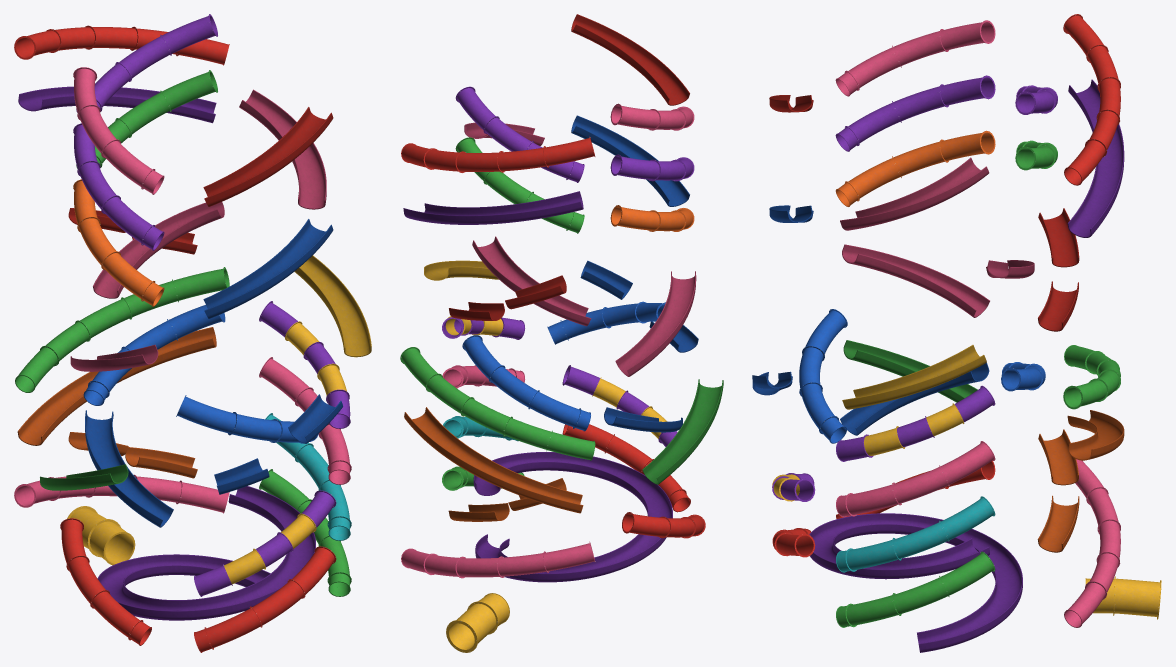
File: torre_A_scivoli.glb
3 renders of one model, left to right at view 1: azimuth 30°, elevation 25°; view 2: azimuth 150°, elevation 25°; view 3: azimuth 270°, elevation 25°, orthographic. The views are drawn at different scales.
Visible parts, largest first — view 1: torre_A_canali, torre_scivolo_22, torre_scivolo_16, torre_scivolo_14, torre_scivolo_19, torre_scivolo_23, torre_scivolo_15, torre_scivolo_24, torre_scivolo_8, torre_scivolo_13, torre_scivolo_17, torre_scivolo_5 (+7 smaller); view 2: torre_A_canali, torre_scivolo_22, torre_scivolo_17, torre_scivolo_16, torre_scivolo_9, torre_scivolo_5, torre_tubo_inseguimento, torre_scivolo_19, torre_scivolo_21, torre_scivolo_14, torre_scivolo_3, torre_scivolo_8 (+7 smaller); view 3: torre_A_canali, torre_scivolo_16, torre_scivolo_17, torre_scivolo_23, torre_scivolo_13, torre_scivolo_8, torre_scivolo_24, torre_scivolo_2, torre_scivolo_18, torre_scivolo_6, torre_scivolo_21, torre_scivolo_22 (+7 smaller).
Boxes of the visible parts, x1,y1,x2,y2 form: torre_A_canali: (17, 86, 371, 620); torre_scivolo_22: (15, 267, 229, 392); torre_scivolo_16: (14, 25, 229, 65); torre_scivolo_14: (194, 490, 336, 596); torre_scivolo_19: (194, 546, 336, 652); torre_scivolo_23: (73, 67, 164, 194); torre_scivolo_15: (60, 518, 151, 645); torre_scivolo_24: (259, 301, 350, 428); torre_scivolo_8: (73, 123, 164, 250); torre_scivolo_13: (73, 179, 164, 306); torre_scivolo_17: (14, 474, 229, 513); torre_scivolo_5: (76, 14, 217, 112); torre_A_canali: (403, 14, 723, 582); torre_scivolo_22: (400, 347, 595, 460); torre_scivolo_17: (401, 541, 595, 578); torre_scivolo_16: (401, 136, 595, 172); torre_scivolo_9: (462, 335, 590, 431); torre_scivolo_5: (455, 86, 584, 182); torre_tubo_inseguimento: (446, 593, 509, 652); torre_scivolo_19: (562, 424, 690, 512); torre_scivolo_21: (547, 301, 665, 344); torre_scivolo_14: (562, 365, 677, 446); torre_scivolo_3: (455, 137, 584, 233); torre_scivolo_8: (610, 154, 694, 181); torre_A_canali: (752, 79, 1124, 652); torre_scivolo_16: (1063, 14, 1120, 185); torre_scivolo_17: (1064, 459, 1120, 627); torre_scivolo_23: (835, 20, 995, 96); torre_scivolo_13: (835, 130, 995, 206); torre_scivolo_8: (835, 75, 995, 151); torre_scivolo_24: (836, 385, 995, 461); torre_scivolo_2: (836, 551, 995, 627); torre_scivolo_18: (836, 496, 995, 572); torre_scivolo_6: (836, 441, 995, 517); torre_scivolo_21: (799, 309, 847, 443); torre_scivolo_22: (1063, 345, 1120, 409).
Size of the model in its own units: 16.14 by 30.15 by 20.14.
9 materials, 9 textured.
